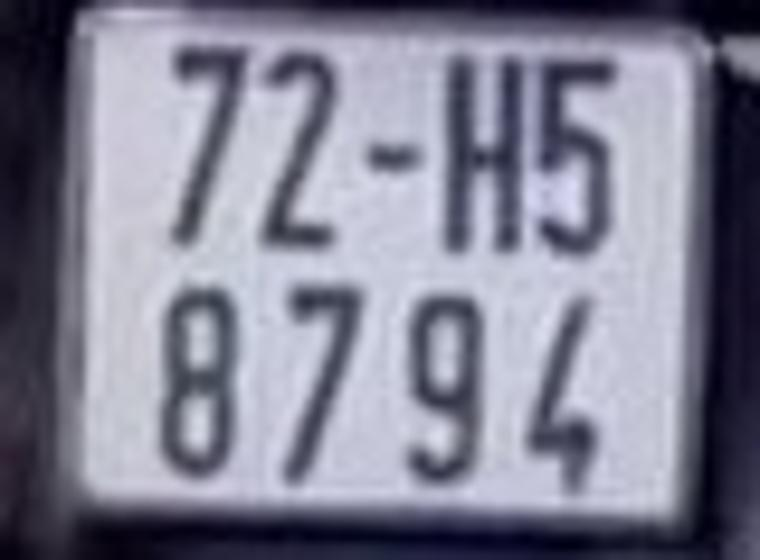-: (368, 139, 417, 173)
2: (263, 49, 339, 251)
4: (522, 292, 605, 489)
5: (539, 57, 613, 257)
7: (167, 45, 245, 240), (284, 282, 360, 476)
8: (155, 283, 237, 481)
9: (409, 297, 485, 484)
H: (444, 51, 518, 248)
